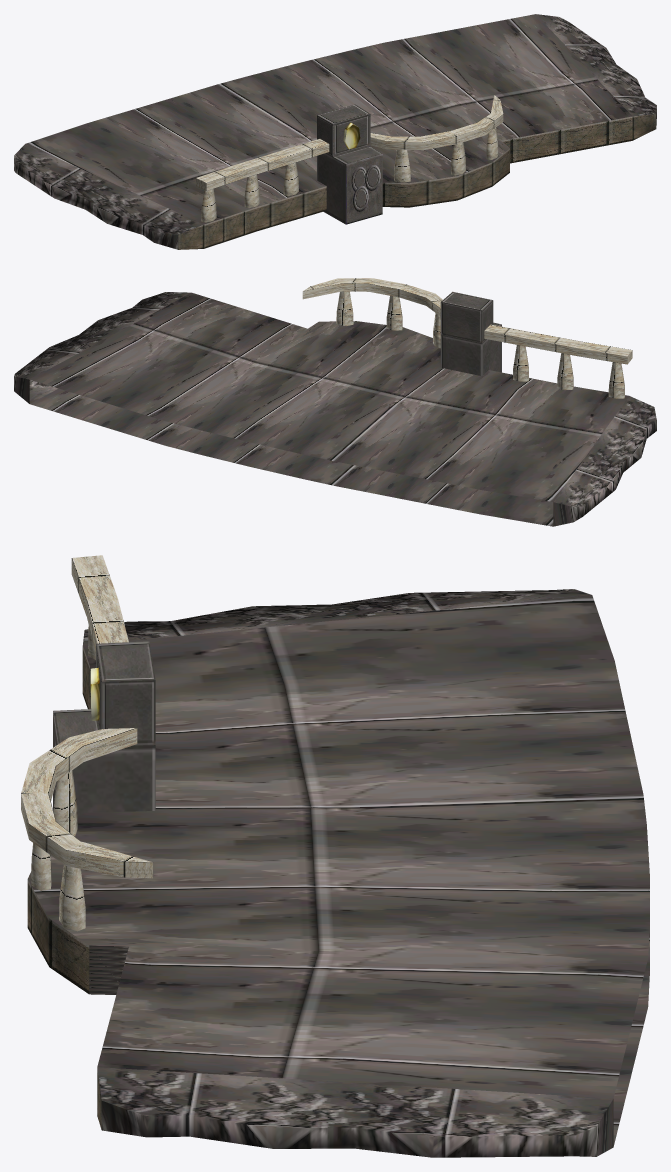
File: INST_SM_WALKWAYA.fbx
3 renders of one model, top to bottom at view 1: azimuth 30°, elevation 25°; view 2: azimuth 150°, elevation 25°; view 3: azimuth 270°, elevation 25°, orthographic. The views are drawn at different scales.
Parts seen in each view (by area): view 1: INST_SM_WALKWAYA; view 2: INST_SM_WALKWAYA; view 3: INST_SM_WALKWAYA.
Boxes of the visible parts, x1=… form: INST_SM_WALKWAYA: x1=14, y1=14, x2=656, y2=249; INST_SM_WALKWAYA: x1=14, y1=278, x2=656, y2=526; INST_SM_WALKWAYA: x1=21, y1=555, x2=649, y2=1157.
Size of the model in its own units: 146617 by 23218 by 71221.
Materials: 6 (6 with a texture image).
